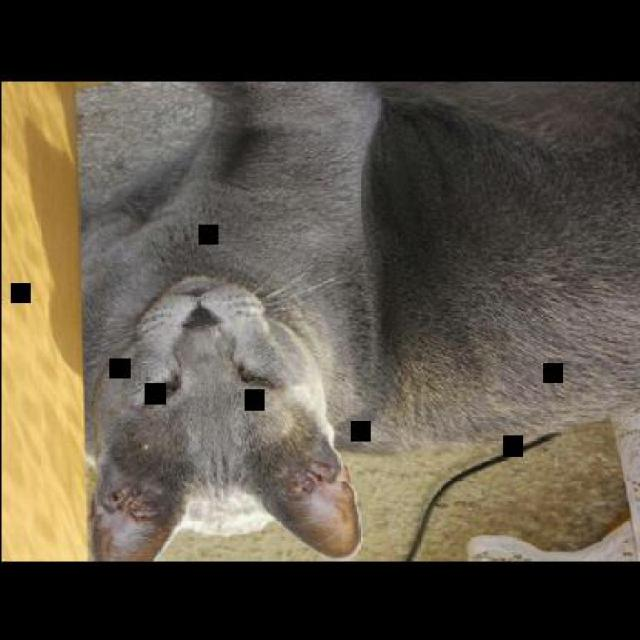unauthorized: (74, 78, 638, 560)
